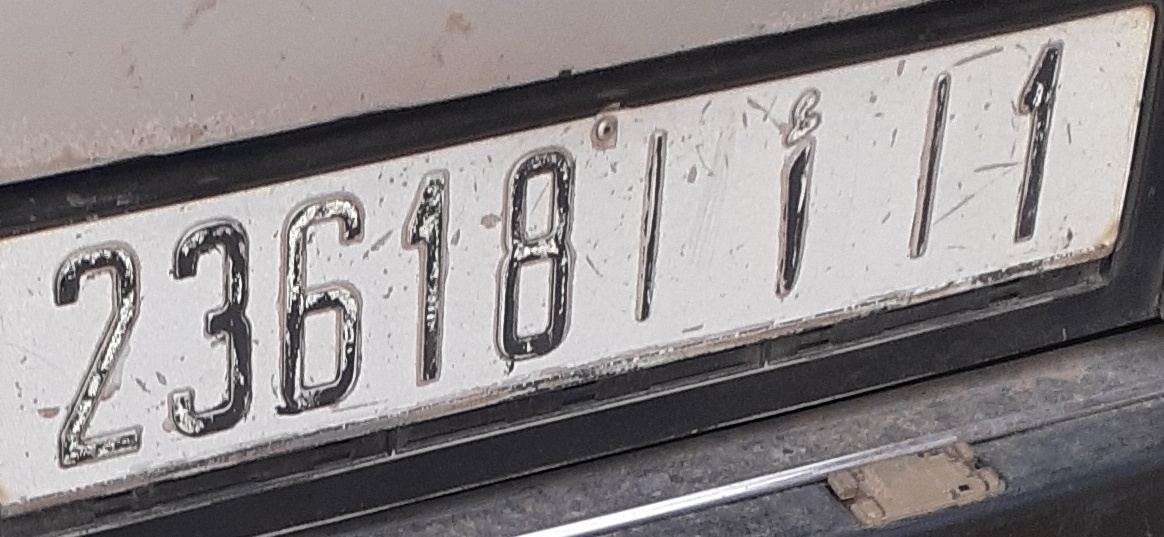1: (999, 36, 1071, 247), (395, 166, 461, 393)
2: (41, 242, 156, 471)
3: (161, 213, 257, 441)
6: (275, 191, 373, 412)
8: (490, 142, 577, 365)
a: (769, 81, 829, 304)
